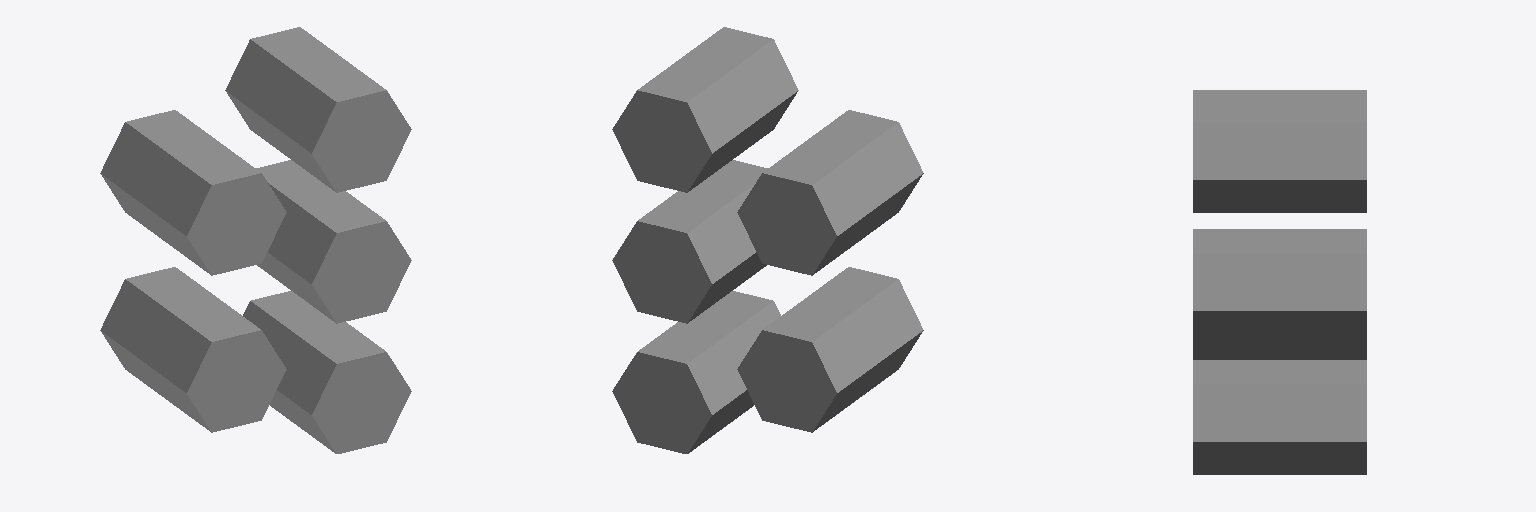
Rendered from Hexas1.obj.
3 views of the same model, side by side, from view 1: azimuth 30°, elevation 25°; view 2: azimuth 150°, elevation 25°; view 3: azimuth 270°, elevation 25° (orthographic).
Visible parts, largest first — view 1: Hexas1; view 2: Hexas1; view 3: Hexas1.
Part boxes in pixels (left/top/right/bottom): Hexas1: left=100, top=27, right=411, bottom=453; Hexas1: left=612, top=27, right=923, bottom=453; Hexas1: left=1193, top=90, right=1366, bottom=474.
Bounding box in the file's own units: 4.5 × 6.73 × 3.